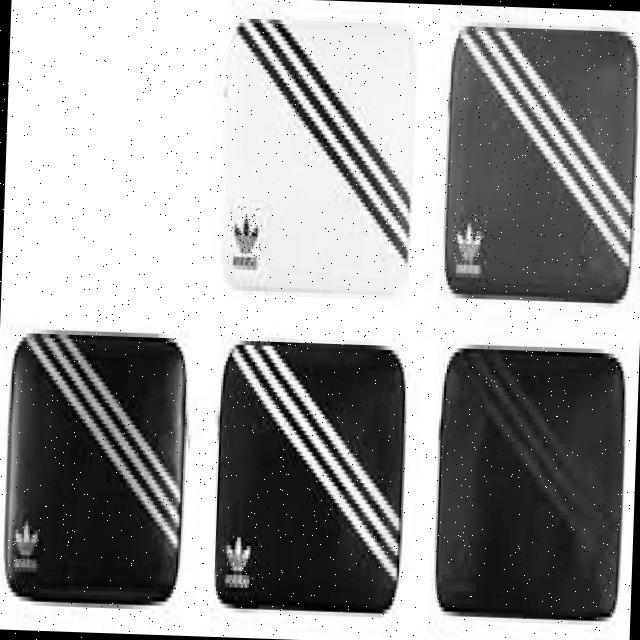Adidas: (229, 206, 262, 261), (452, 214, 487, 265), (220, 528, 257, 575), (11, 517, 41, 560)
